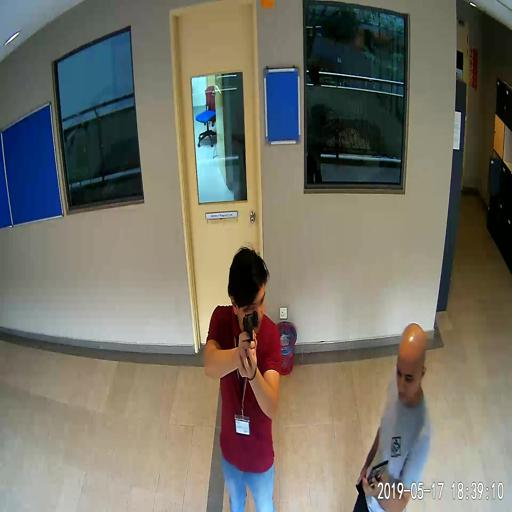pistol: (241, 310, 258, 362)
